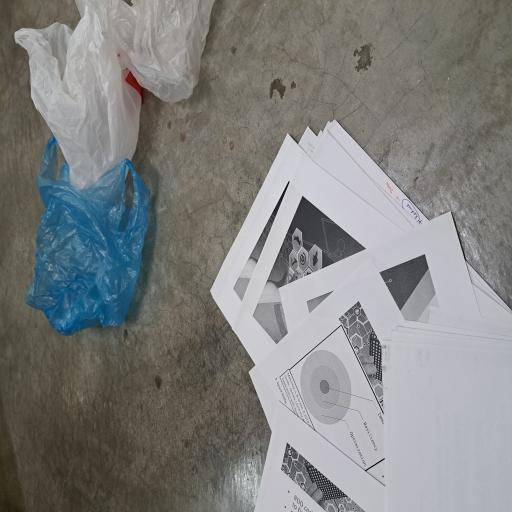paper: (0, 278, 298, 512)
plastic bag: (131, 32, 283, 202), (239, 19, 384, 193), (307, 148, 384, 290)
